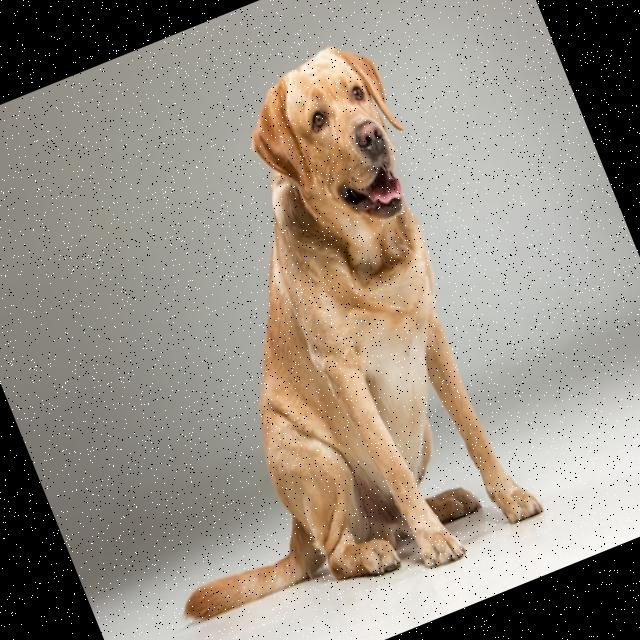Dog: (8, 34, 559, 640)
